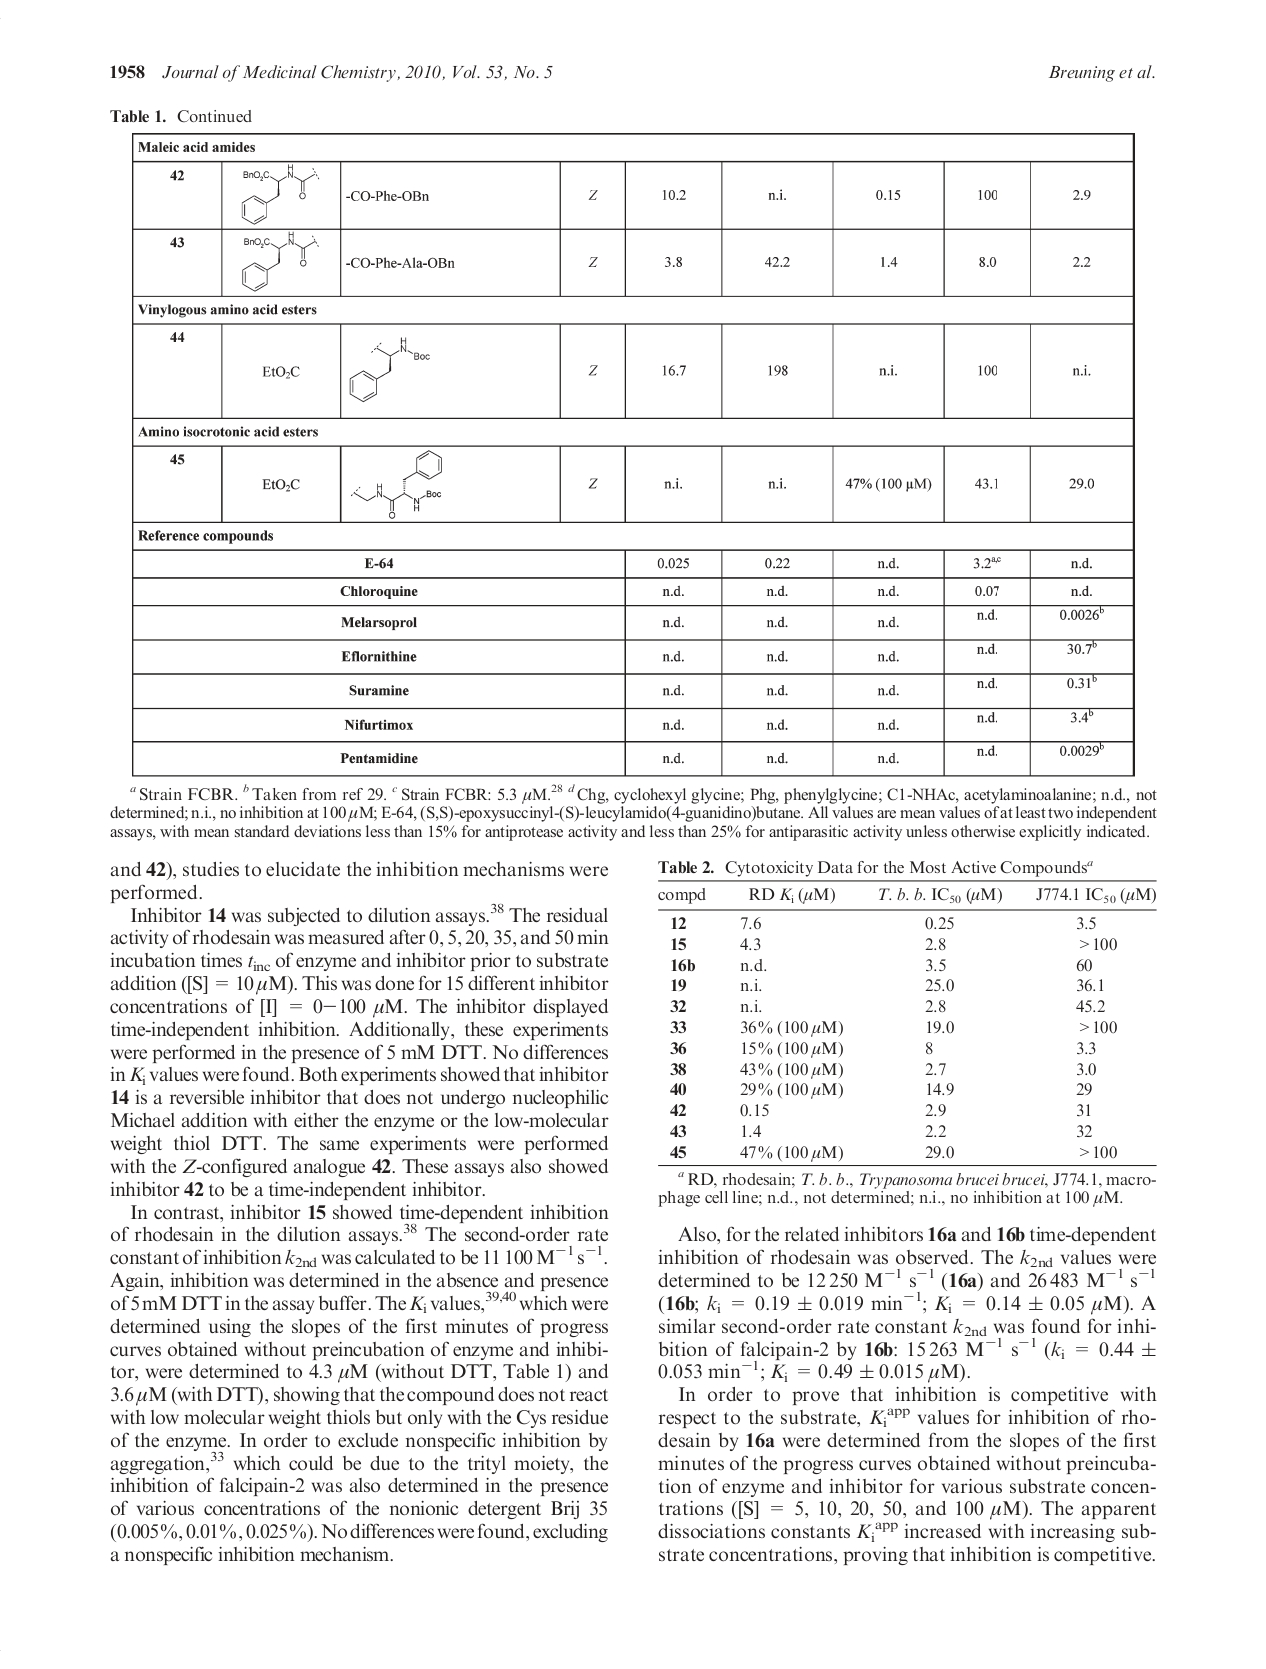exist_molecular: (350, 448, 442, 521), (348, 336, 431, 403), (239, 164, 320, 226), (239, 231, 320, 293)
